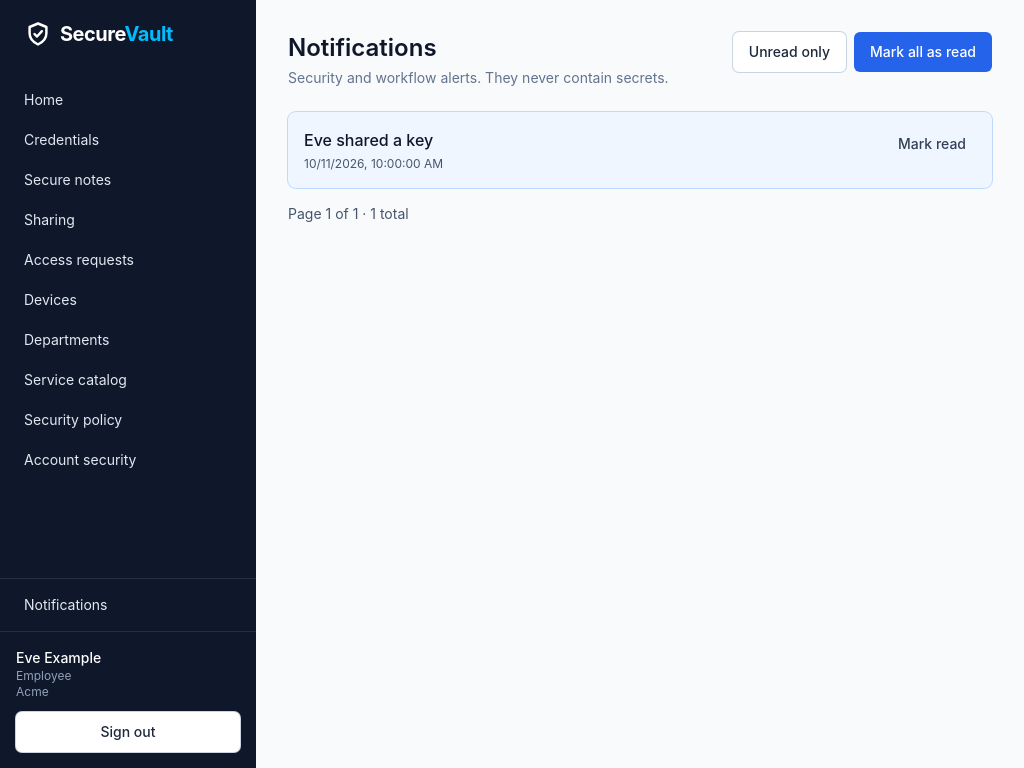
Scenario: notifications page › keeps a notification unread and says so when marking it read fails
This screenshot has width=1024, height=768.
Click the button with aria-label "Mark read: Eve shared a key" at (932, 144), box [888,128,976,160]
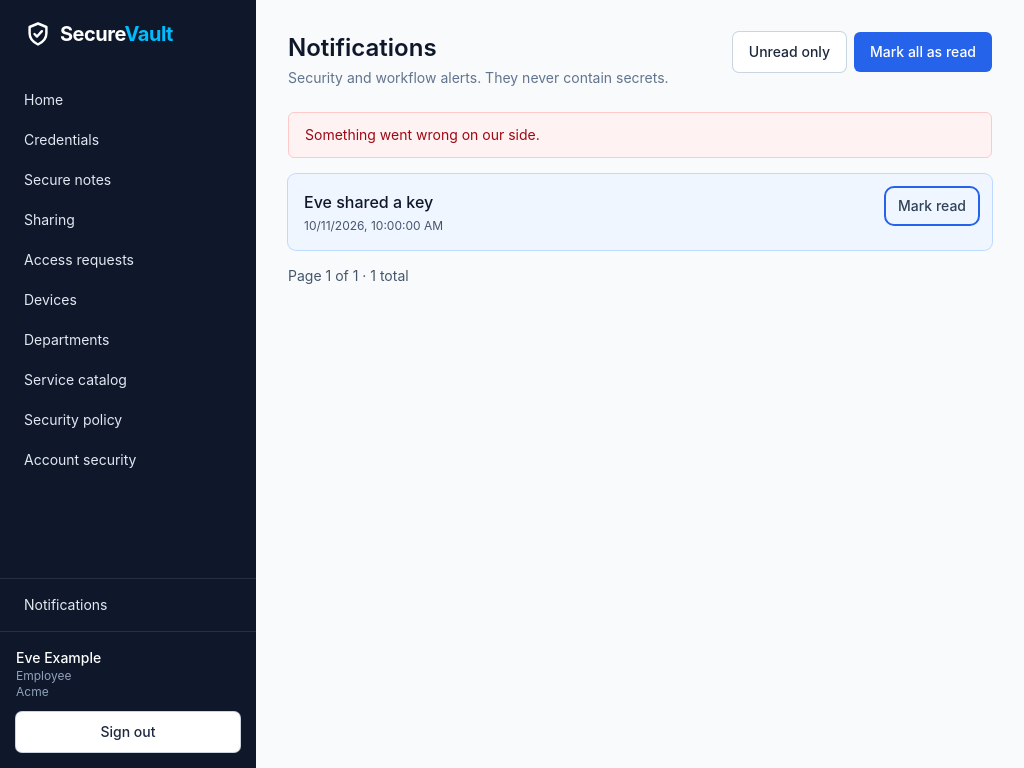
Expected: the button with aria-label "Mark read: Eve shared a key" is shown, [888,190,976,222]
Result: the message reads "Something went wrong on our side." at [305,126,540,143]
